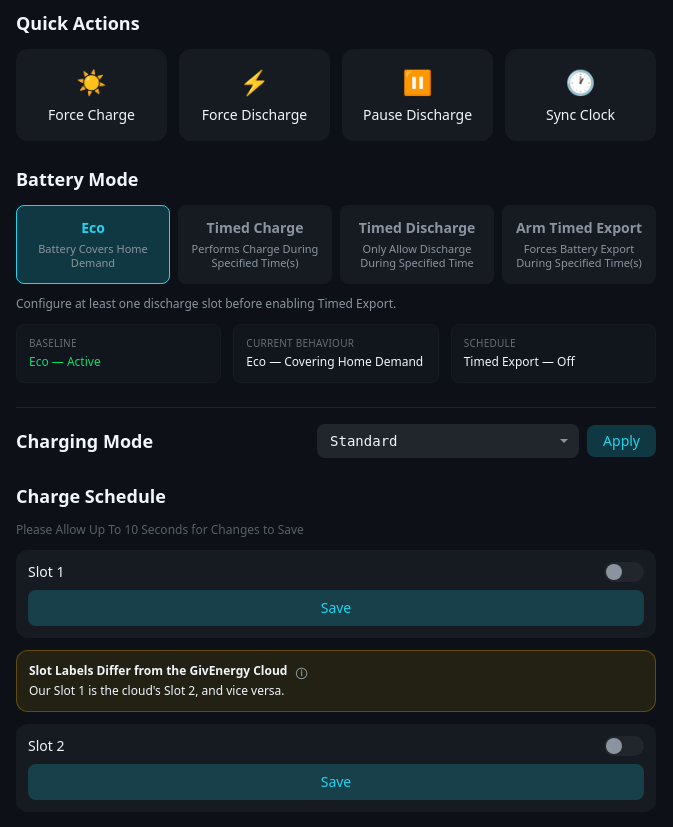
Test case: <ControlPage/> — Agile postcode lookup › sets the region from the postcode area
Select "Agile (Full)" in the dropdown. click: (448, 441)
box: x1=317 y1=424 x2=579 y2=458
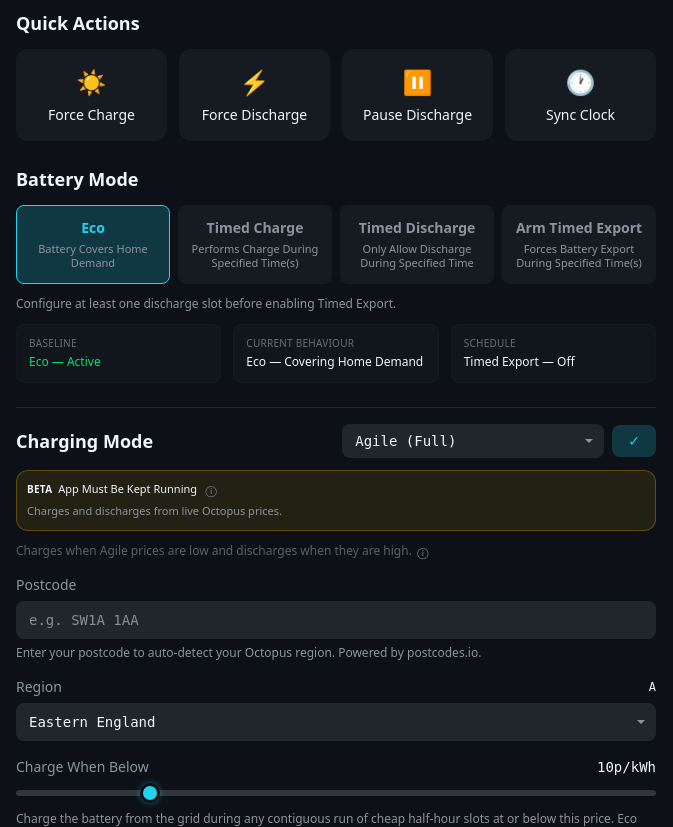
Type "SW1A 1AA" into the field with placeholder "e.g. SW1A 1AA". click: (336, 620)
box: x1=16 y1=601 x2=656 y2=639
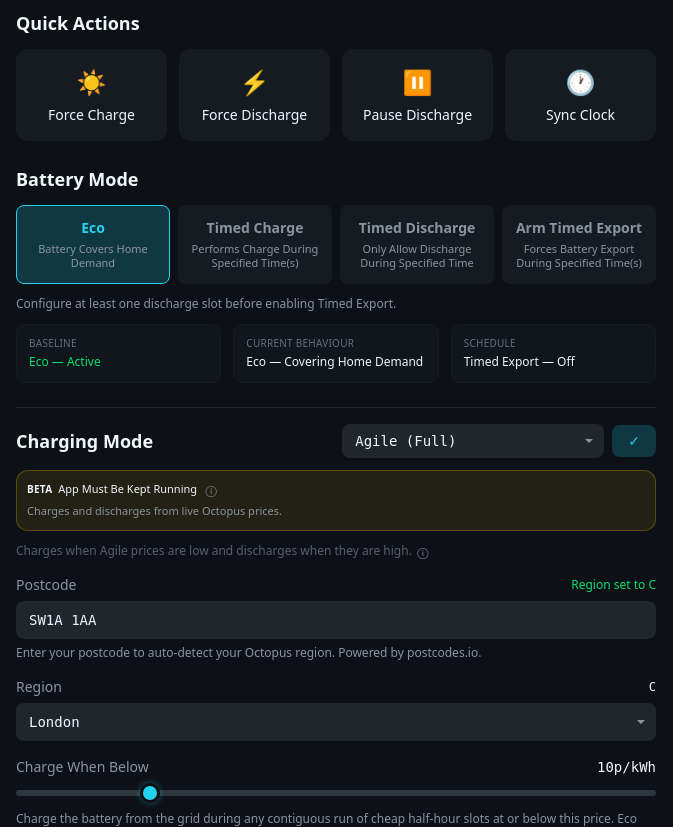
Check: the text "Region set to C" is shown, box x1=571 y1=577 x2=656 y2=593
